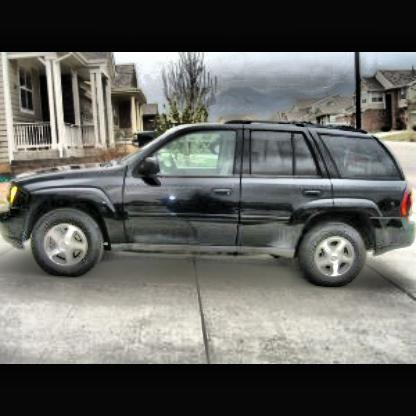Chevrolet TrailBlazer SS 2009: (3, 122, 416, 292)
